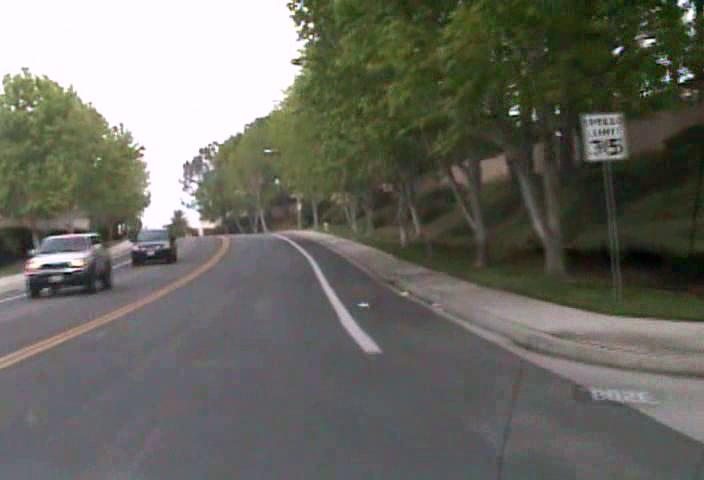speedLimit35: (579, 108, 628, 162)
